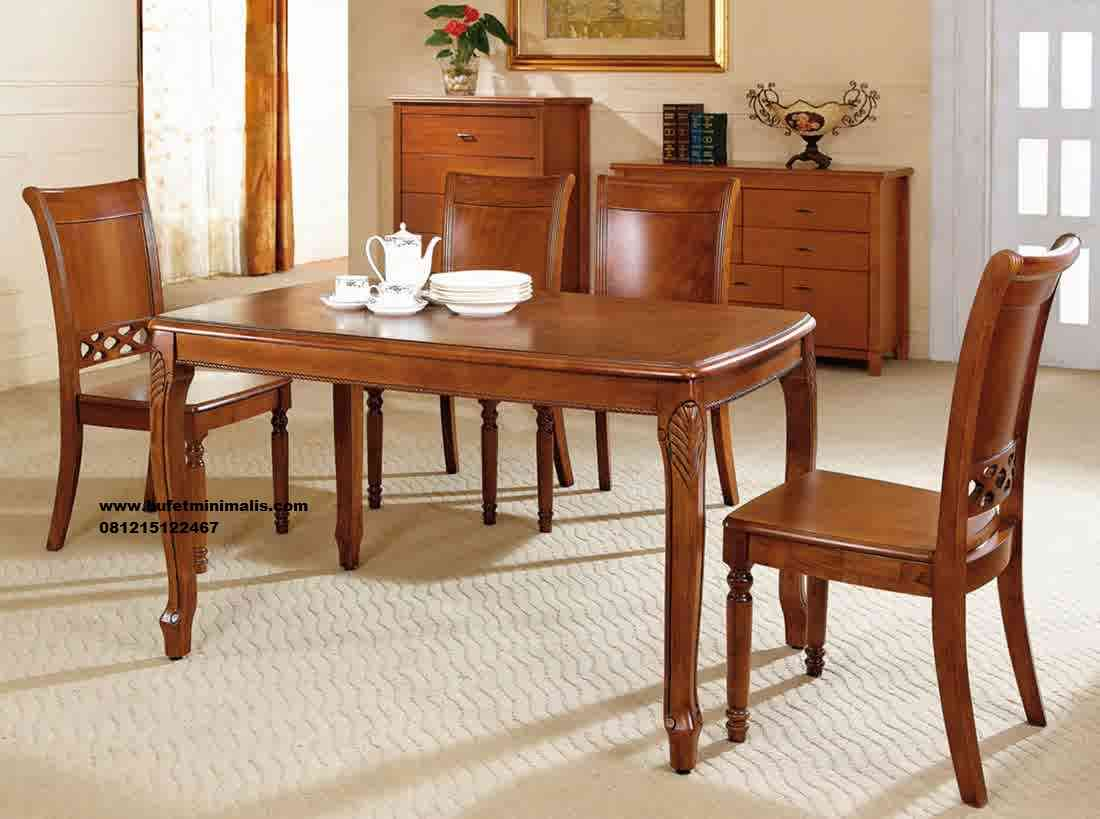Carving Chair: (753, 235, 1085, 807)
Carving Table: (150, 273, 819, 757)
